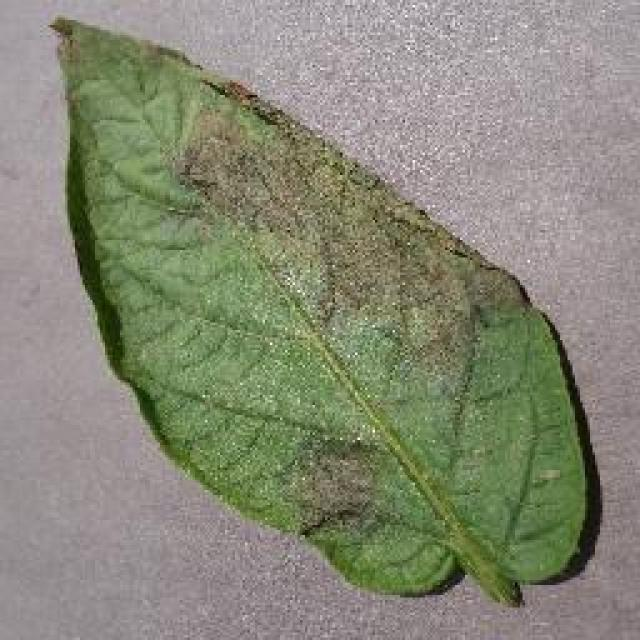Potato___Late_blight: (197, 84, 540, 521)
